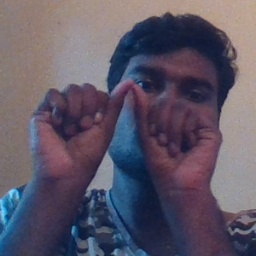A: (41, 78, 205, 189)
